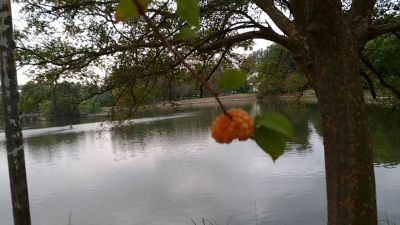eggs: (212, 108, 255, 146)
